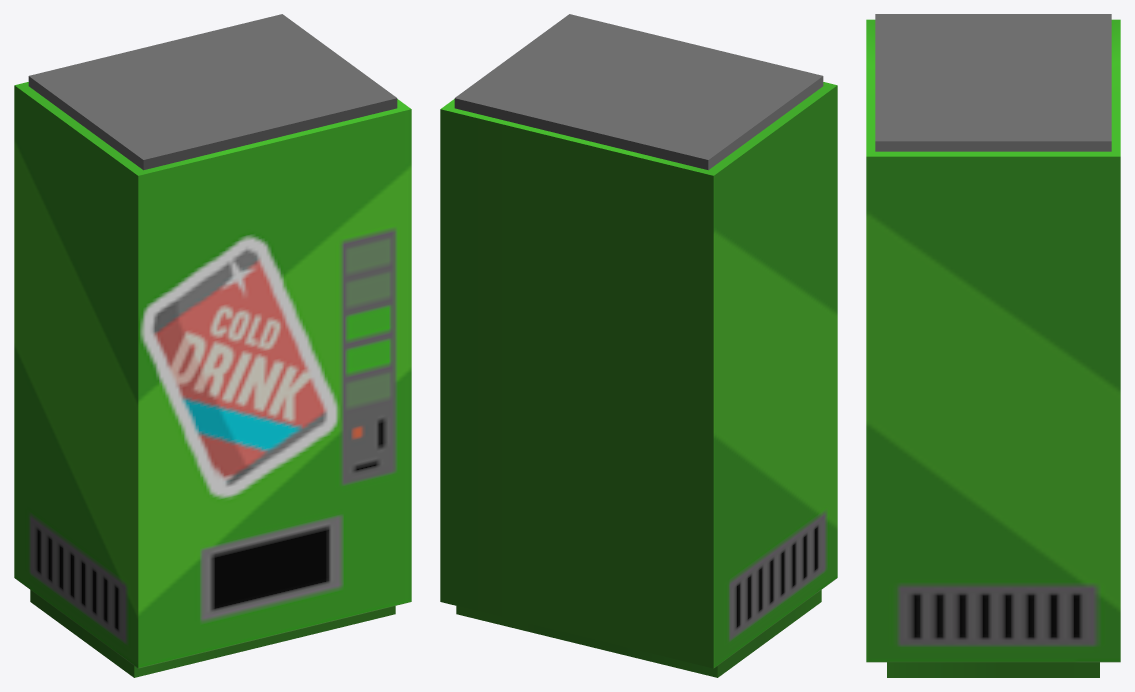
The model's file is SM_VendingMachine_Large_02.fbx.
The picture shows the model from 3 angles, left to right: view 1: azimuth 30°, elevation 25°; view 2: azimuth 150°, elevation 25°; view 3: azimuth 270°, elevation 25°; orthographic projection. The views are drawn at different scales.
Visible parts, largest first — view 1: SM_VendingMachine_Large_02; view 2: SM_VendingMachine_Large_02; view 3: SM_VendingMachine_Large_02.
Boxes of the visible parts, left/top/right/bottom form: SM_VendingMachine_Large_02: left=14, top=14, right=411, bottom=677; SM_VendingMachine_Large_02: left=440, top=14, right=837, bottom=677; SM_VendingMachine_Large_02: left=866, top=14, right=1120, bottom=677.
Bounding box in the file's own units: 1.84 × 3.35 × 1.44.
